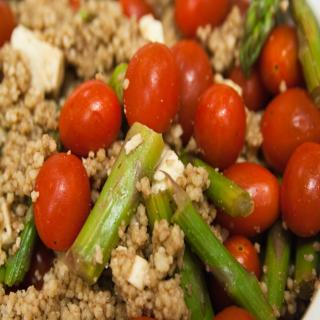tomato: (32, 152, 90, 252), (122, 40, 180, 136), (57, 77, 121, 160), (260, 88, 320, 173), (215, 162, 279, 235), (194, 81, 243, 173), (169, 39, 212, 140), (279, 142, 320, 235), (260, 26, 304, 98), (228, 60, 270, 113), (175, 0, 231, 38), (222, 233, 260, 280), (119, 0, 155, 30), (0, 0, 12, 48), (214, 308, 254, 319)
